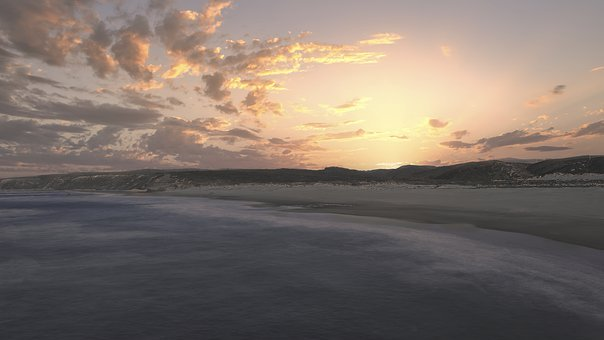sea: (11, 171, 604, 332)
sky: (5, 3, 600, 163)
